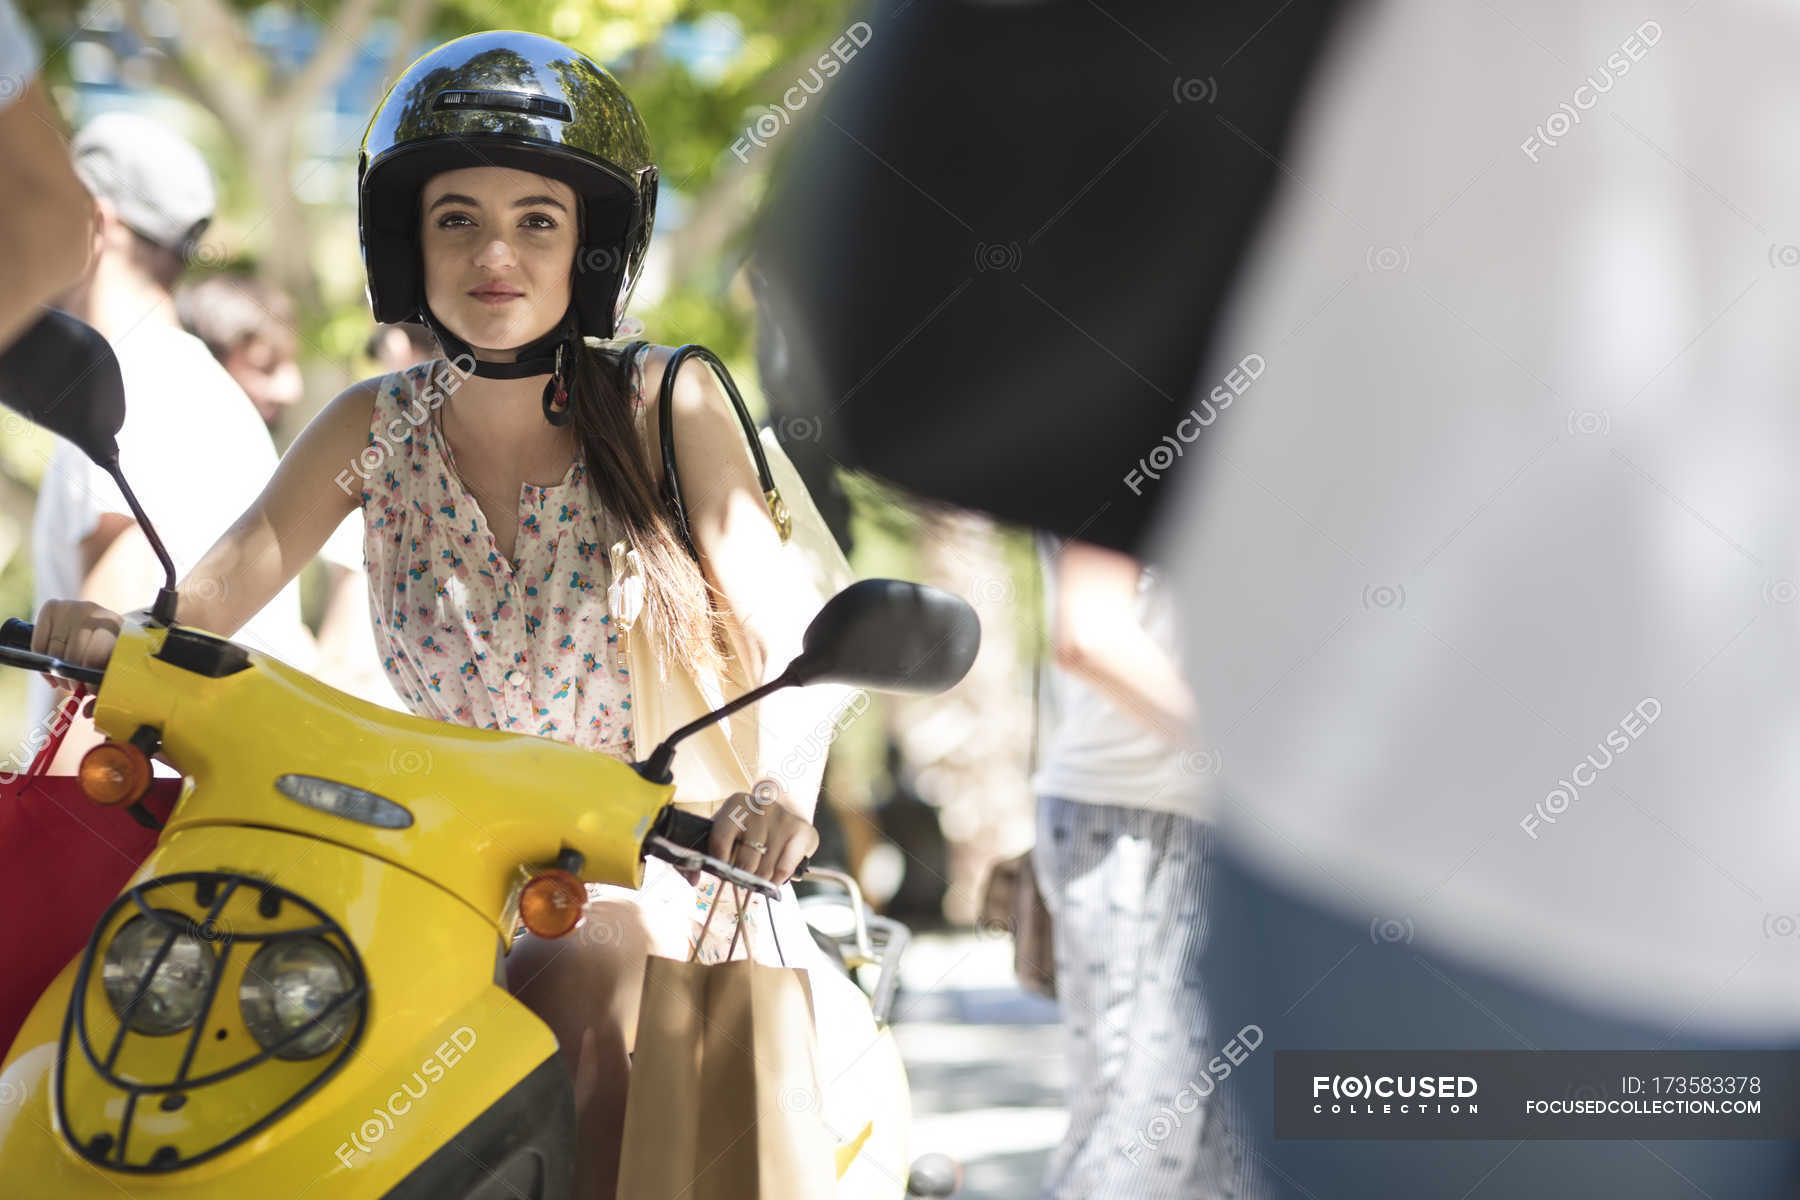helmet: (358, 28, 658, 350)
